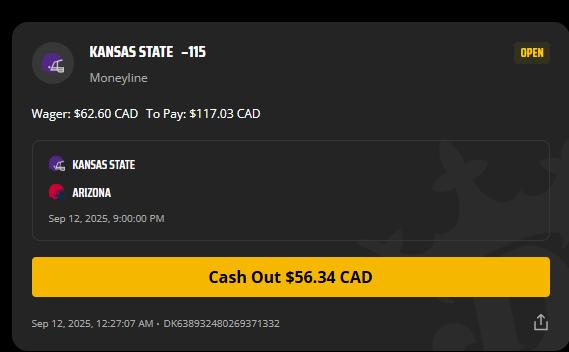game: (71, 157, 138, 200)
odds: (180, 45, 210, 59)
payout: (189, 106, 235, 125)
wager: (72, 106, 113, 123)
